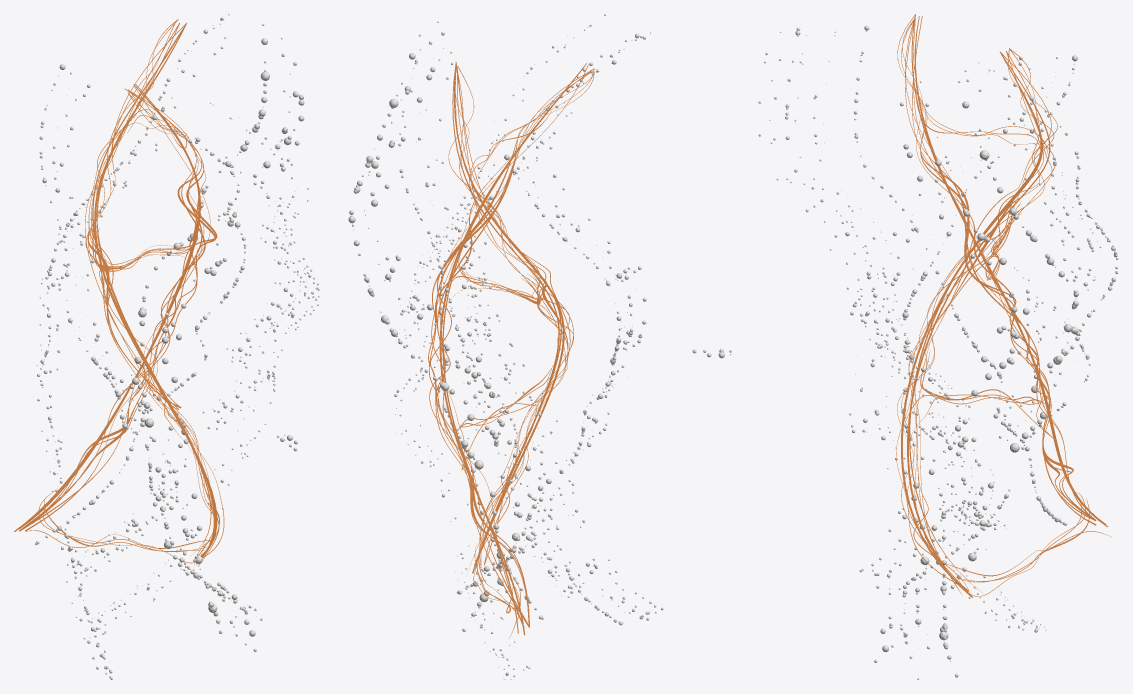
File: DNA_6.glb
3 renders of one model, left to right at view 1: azimuth 30°, elevation 25°; view 2: azimuth 150°, elevation 25°; view 3: azimuth 270°, elevation 25°, orthographic. The views are drawn at different scales.
Parts seen in each view (by area): view 1: NurbsPath.014; view 2: NurbsPath.014; view 3: NurbsPath.014.
Boxes of the visible parts, x1=… form: NurbsPath.014: x1=14, y1=19, x2=224, y2=566; NurbsPath.014: x1=428, y1=62, x2=594, y2=638; NurbsPath.014: x1=896, y1=14, x2=1111, y2=597.
Bounding box in the file's own units: 11.41 × 27.38 × 17.04.
